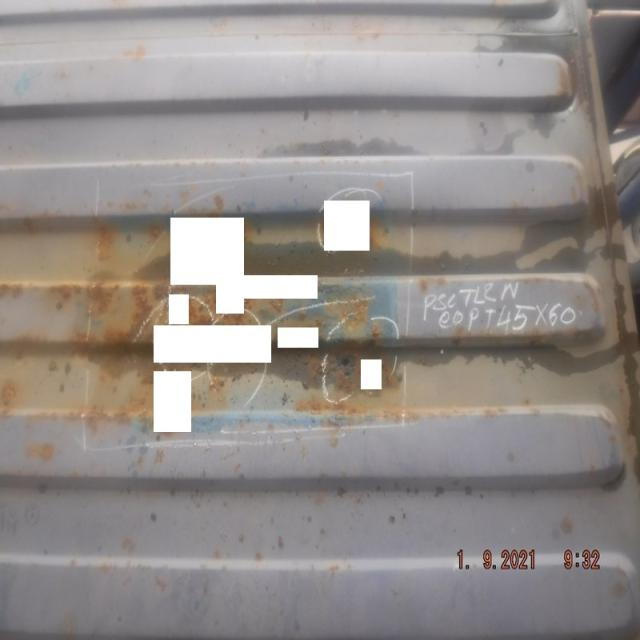hole: (335, 351, 357, 380)
